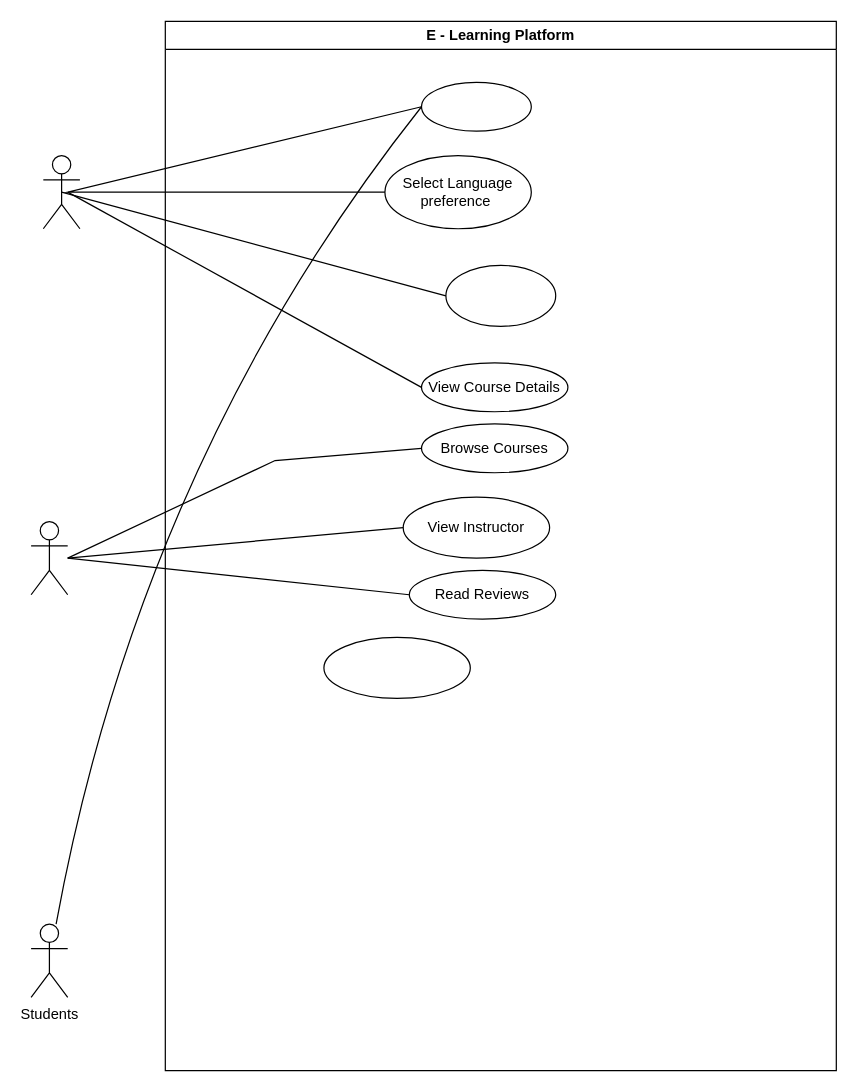
Image size: 858x1092. Some labels were removed from this diagram. The box of each missing label's shape, as (x1, y1, x2, y2) in pixels:
Login: (445, 264, 556, 326)
Sign up: (420, 81, 531, 131)
User: (42, 154, 80, 229)
Visitor: (30, 520, 68, 595)
